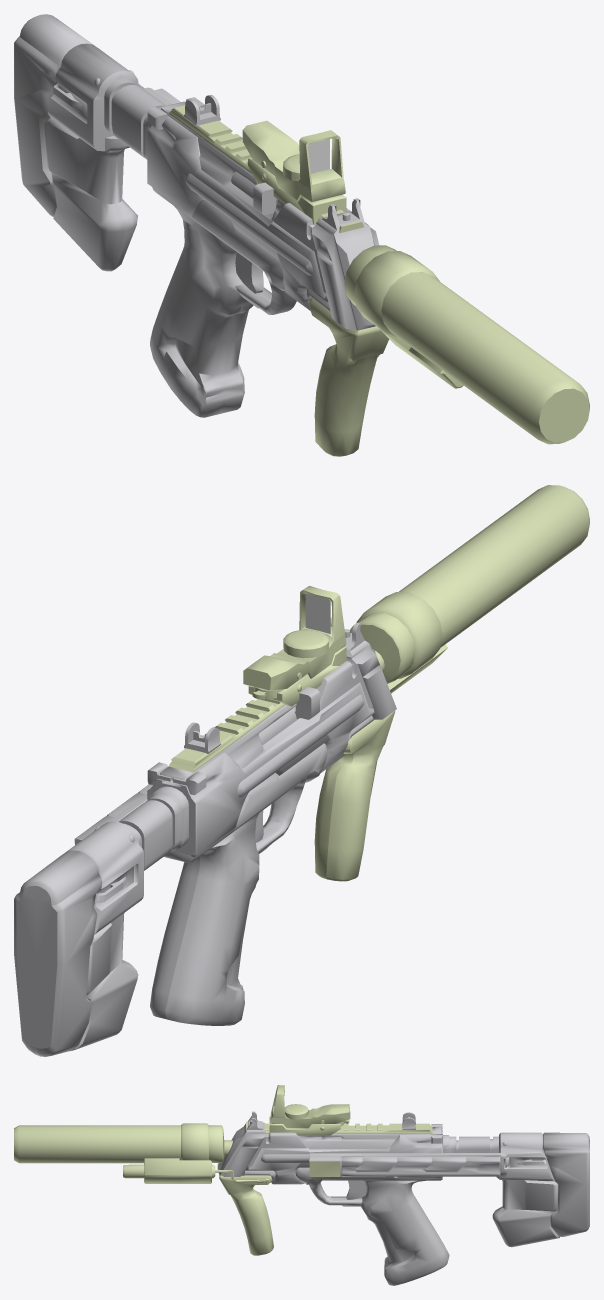
3 views of the same model, one above another, from view 1: azimuth 30°, elevation 25°; view 2: azimuth 150°, elevation 25°; view 3: azimuth 270°, elevation 25° (orthographic). The views are drawn at different scales.
Parts seen in each view (by area): view 1: Main Body, Scope, Charging Handle, ScopeLens; view 2: Main Body, Scope, Charging Handle, ScopeLens; view 3: Main Body, Magazine2, Scope, Main Body.001, Magazine1.
Part boxes in pixels (bbox=[...]): Main Body: bbox=[14, 14, 589, 456]; Scope: bbox=[242, 120, 346, 224]; Charging Handle: bbox=[231, 172, 276, 215]; ScopeLens: bbox=[308, 139, 329, 173]; Main Body: bbox=[14, 485, 589, 1056]; Scope: bbox=[243, 585, 346, 706]; Charging Handle: bbox=[259, 687, 319, 744]; ScopeLens: bbox=[305, 594, 330, 633]; Main Body: bbox=[14, 1111, 589, 1285]; Magazine2: bbox=[341, 1155, 500, 1176]; Scope: bbox=[269, 1085, 350, 1135]; Main Body.001: bbox=[309, 1153, 427, 1161]; Magazine1: bbox=[341, 1157, 498, 1176].
Bounding box in the file's own units: 7.4 × 30.96 × 83.76.
